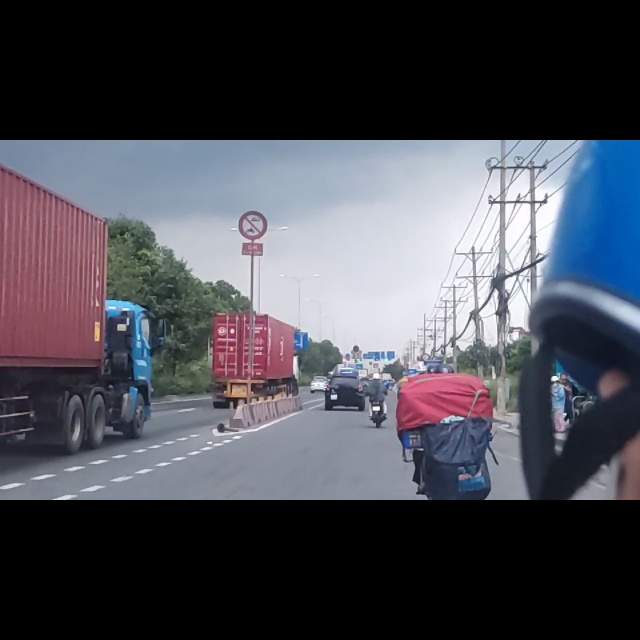bien_cam: (239, 126, 267, 179)
